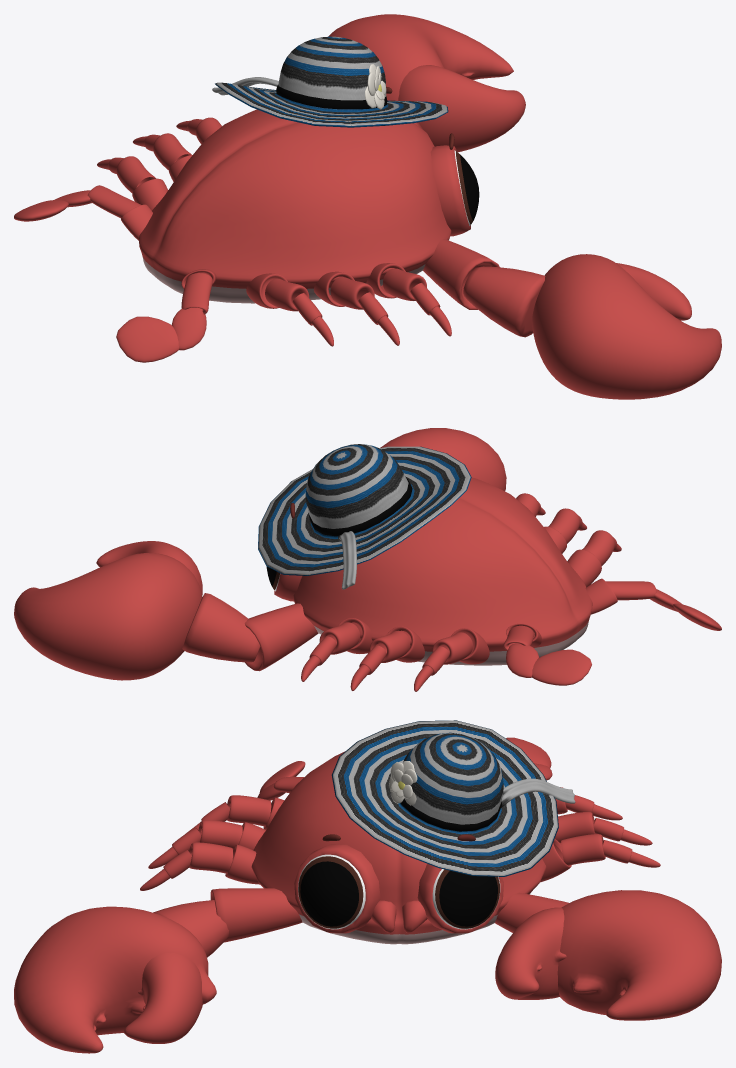
File: little_crab.glb
The picture shows the model from 3 angles, top to bottom: view 1: azimuth 30°, elevation 25°; view 2: azimuth 150°, elevation 25°; view 3: azimuth 270°, elevation 25°; orthographic projection. The views are drawn at different scales.
Parts seen in each view (by area): view 1: Cuerpo, TenazaC, Sombrero, TenazaC.001, PataA.002, Sphere, TenazaB, PataA.001, PataA, TenazaA, OjosA, PataA.005 (+3 smaller); view 2: Cuerpo, TenazaC, Sombrero, PataA.002, TenazaB, Sphere, TenazaA, PataA, PataA.001, TenazaC.001, PataA.005, PataA.003 (+1 smaller); view 3: TenazaC, Sombrero, Cuerpo, TenazaC.001, OjosB, PataA.002, TenazaA, PataA.001, OjosA, PataA, TenazaB, Sphere (+2 smaller).
Boxes of the visible parts, x1,y1,x2,y2 form: Cuerpo: [138, 109, 451, 303]; TenazaC: [328, 14, 721, 399]; Sombrero: [212, 36, 448, 127]; TenazaC.001: [398, 65, 691, 320]; PataA.002: [116, 117, 426, 311]; Sphere: [14, 190, 206, 362]; TenazaB: [463, 266, 545, 337]; PataA.001: [97, 119, 451, 346]; PataA: [132, 155, 405, 308]; TenazaA: [423, 239, 499, 309]; OjosA: [414, 122, 470, 236]; PataA.005: [87, 185, 212, 314]; Cuerpo: [293, 477, 592, 665]; TenazaC: [14, 428, 506, 680]; Sombrero: [258, 444, 471, 589]; PataA.002: [319, 493, 614, 664]; TenazaB: [182, 593, 260, 662]; Sphere: [506, 589, 721, 685]; TenazaA: [244, 603, 318, 671]; PataA: [338, 526, 601, 664]; PataA.001: [301, 501, 621, 691]; TenazaC.001: [96, 541, 202, 595]; PataA.005: [503, 581, 656, 650]; PataA.003: [506, 578, 617, 647]; TenazaC: [14, 890, 721, 1053]; Sombrero: [331, 720, 575, 876]; Cuerpo: [251, 751, 546, 944]; TenazaC.001: [123, 907, 566, 1043]; OjosB: [298, 854, 500, 929]; PataA.002: [189, 787, 605, 873]; TenazaA: [210, 888, 568, 942]; PataA.001: [140, 795, 660, 890]; OjosA: [294, 844, 503, 933]; PataA: [225, 797, 571, 884]; TenazaB: [153, 900, 228, 957]; Sphere: [257, 737, 552, 800].
Bounding box in the file's own units: 304 × 128 × 339.
10 materials, 1 textured.
